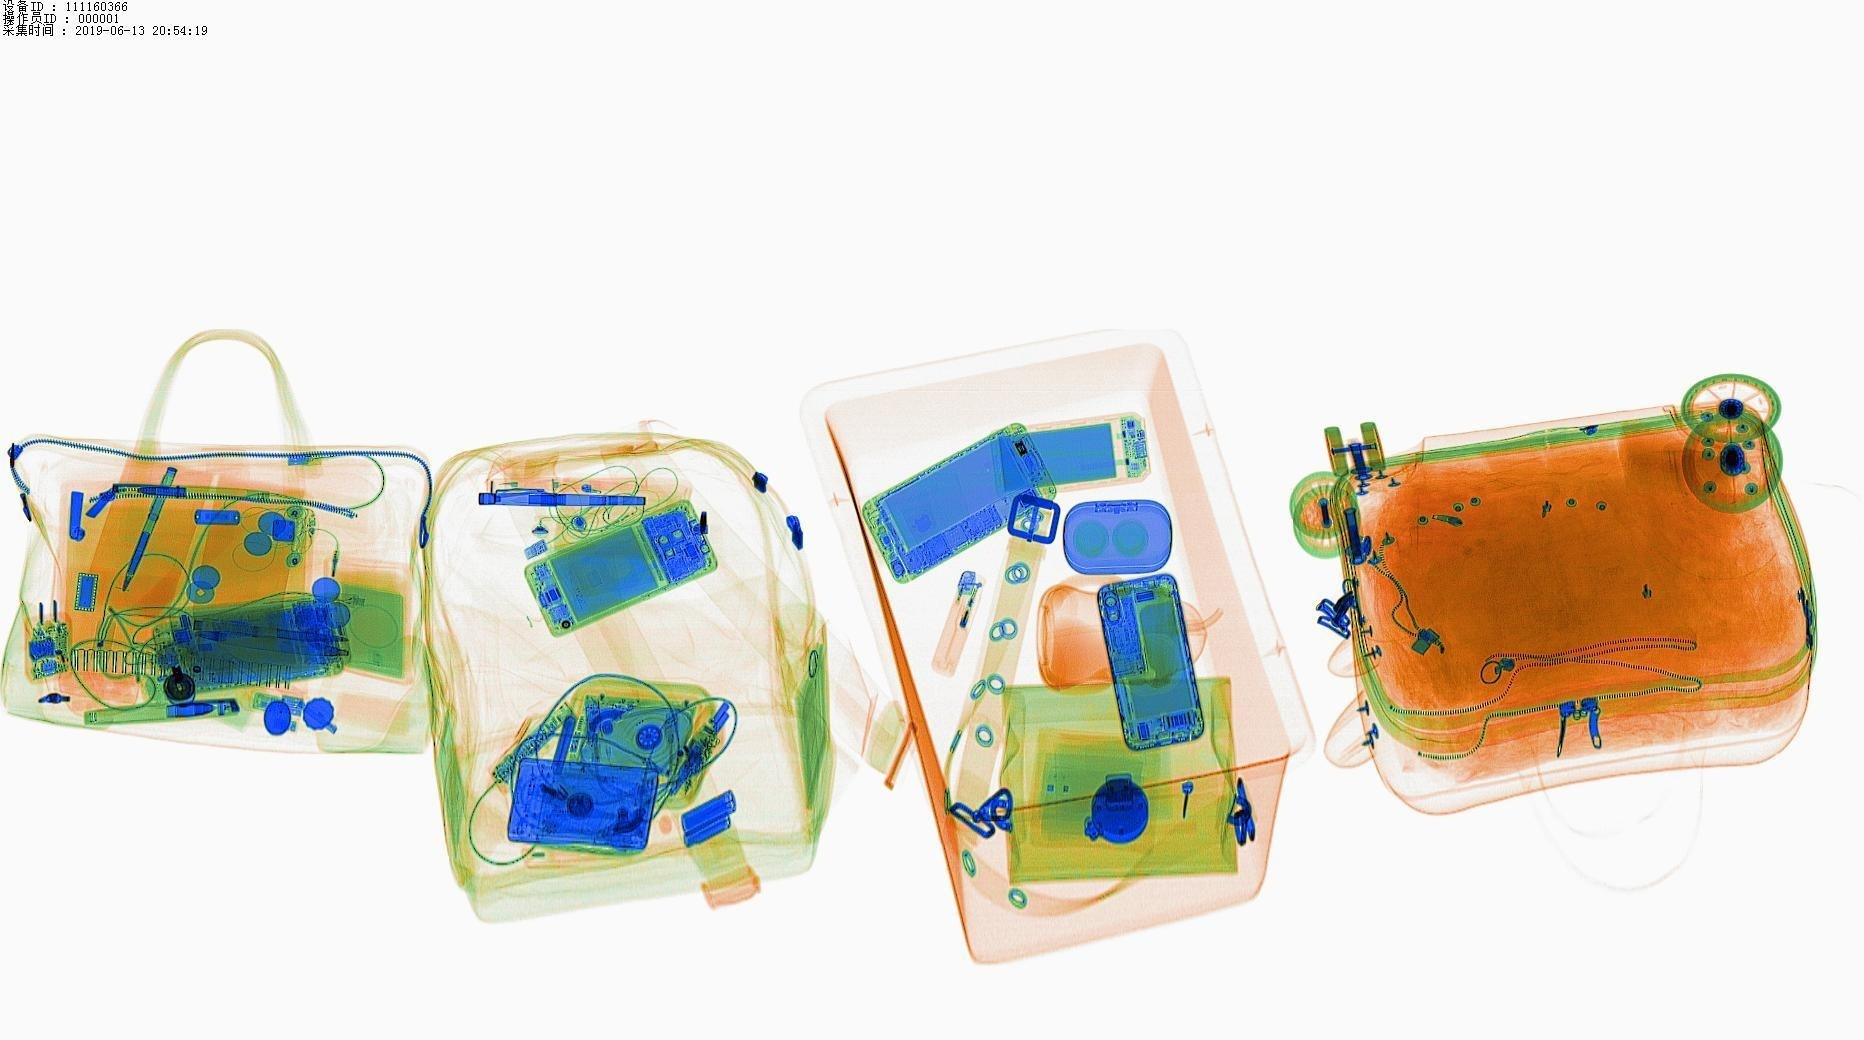NonmetallicFire: (927, 575, 984, 681)
